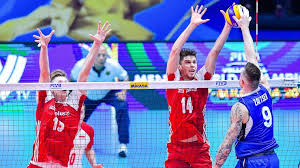ball: (224, 4, 247, 28)
